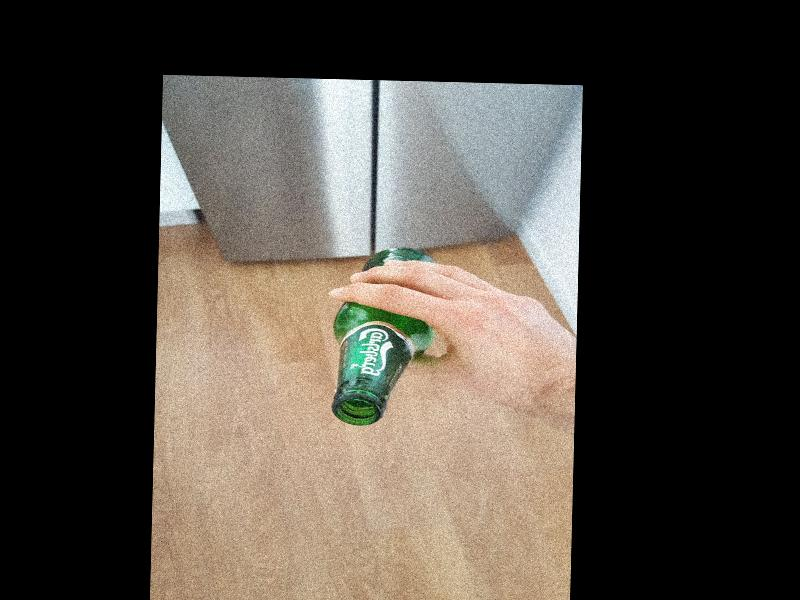Beer: (331, 246, 435, 427)
